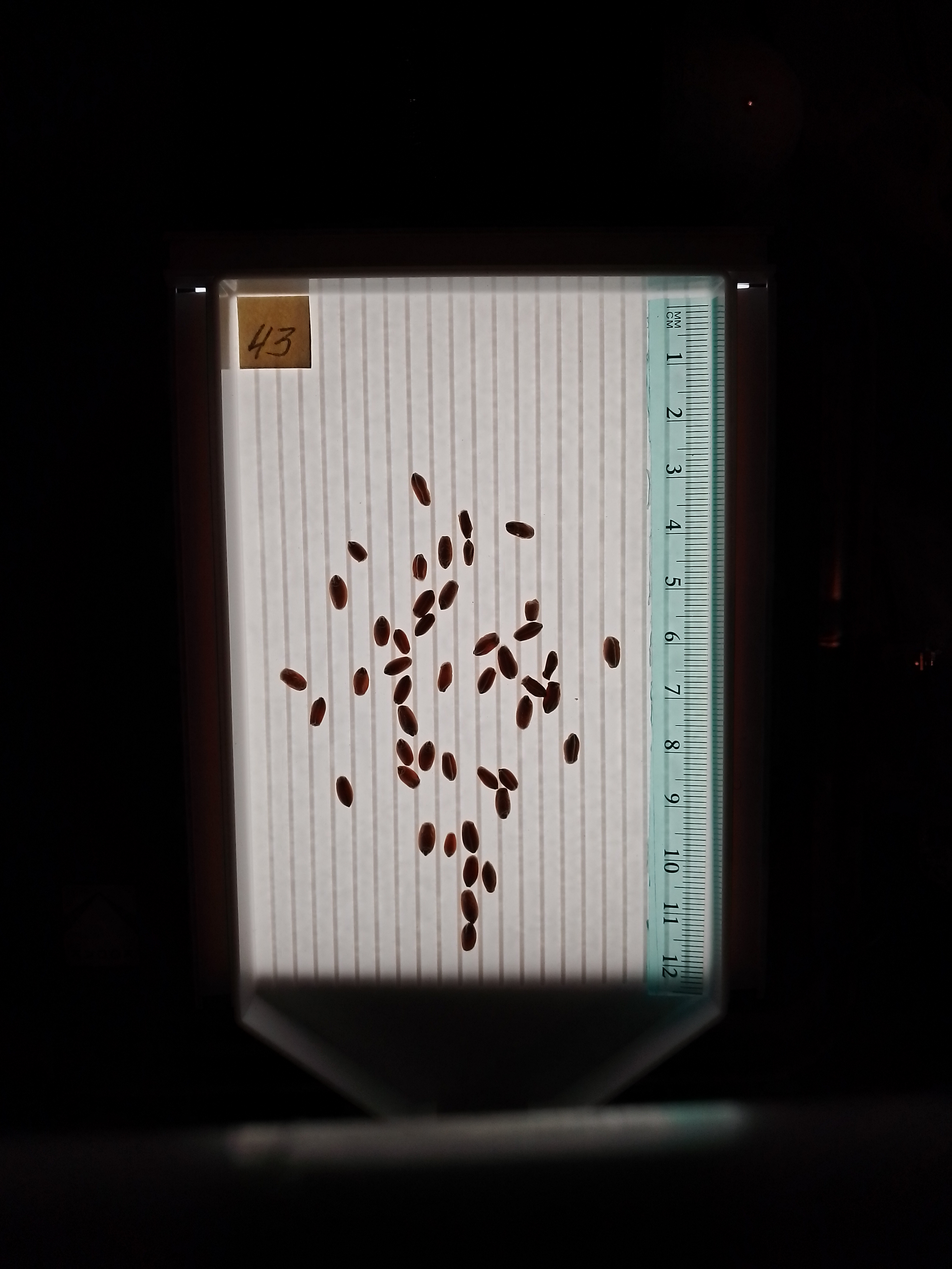seed mask: (329, 576, 348, 610), (411, 474, 431, 506), (498, 647, 518, 679), (418, 823, 437, 855), (516, 696, 533, 729), (603, 637, 621, 668), (398, 706, 417, 735), (439, 581, 458, 610), (281, 669, 306, 691), (543, 683, 561, 713), (336, 777, 354, 807), (515, 621, 542, 641), (522, 676, 545, 699), (462, 822, 479, 853), (474, 634, 499, 655), (414, 590, 434, 616), (461, 892, 478, 922), (506, 521, 534, 539), (385, 656, 411, 675), (419, 742, 435, 772), (478, 766, 498, 790), (564, 734, 580, 764), (374, 616, 390, 646), (394, 676, 411, 704), (499, 768, 518, 792), (477, 668, 495, 693), (495, 789, 510, 819), (463, 856, 478, 886), (398, 767, 419, 788), (310, 699, 326, 726), (482, 863, 497, 891), (439, 537, 453, 567), (396, 740, 413, 764), (442, 753, 457, 780), (348, 541, 367, 562), (543, 652, 558, 678), (354, 669, 369, 695), (394, 630, 410, 654), (462, 924, 476, 951), (439, 664, 453, 691), (416, 615, 434, 636), (413, 557, 429, 580), (459, 511, 472, 538), (444, 833, 457, 857), (524, 600, 539, 619), (463, 542, 474, 564)
